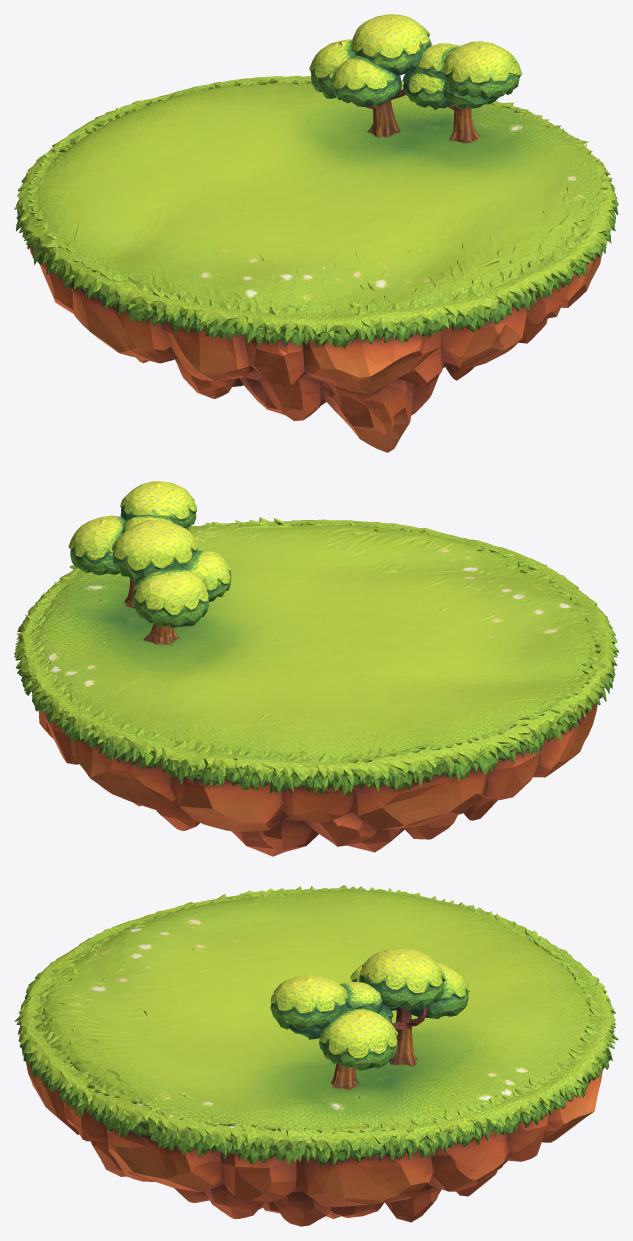
Rendered from TERRAIN_1_spring.glb.
The picture shows the model from 3 angles, top to bottom: view 1: azimuth 30°, elevation 25°; view 2: azimuth 150°, elevation 25°; view 3: azimuth 270°, elevation 25°; orthographic projection.
Visible parts, largest first — view 1: tripo_node_93b09476-0557-4c40-be81-f8c103551c93; view 2: tripo_node_93b09476-0557-4c40-be81-f8c103551c93; view 3: tripo_node_93b09476-0557-4c40-be81-f8c103551c93.
Boxes of the visible parts, bbox=[...] form: tripo_node_93b09476-0557-4c40-be81-f8c103551c93: bbox=[14, 14, 618, 452]; tripo_node_93b09476-0557-4c40-be81-f8c103551c93: bbox=[14, 481, 618, 856]; tripo_node_93b09476-0557-4c40-be81-f8c103551c93: bbox=[14, 885, 618, 1226].
Size of the model in its own units: 8.97 by 5 by 9.
1 material, 1 textured.
